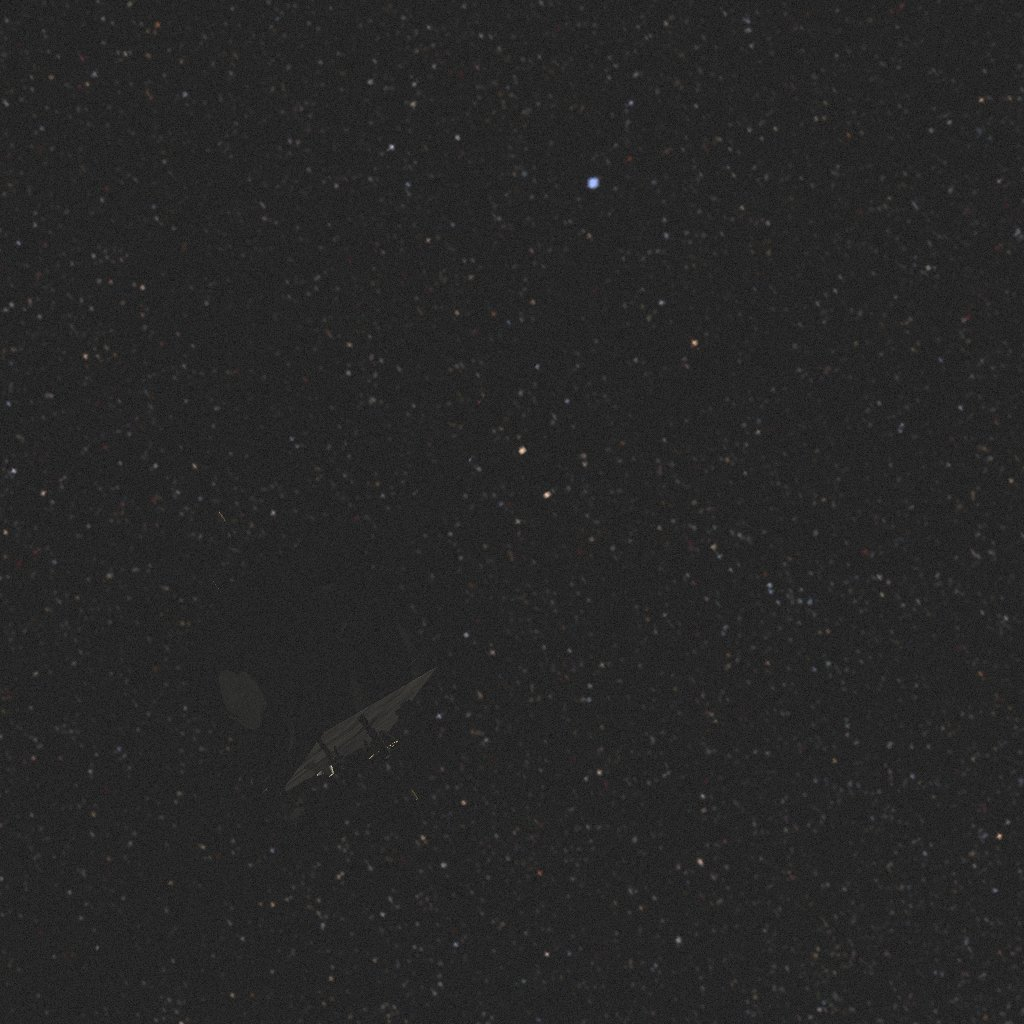smart_1: (172, 505, 484, 835)
